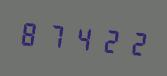eight: (18, 14, 43, 52)
four: (70, 18, 95, 56)
seven: (44, 16, 69, 54)
two: (96, 21, 121, 59), (122, 23, 147, 61)
